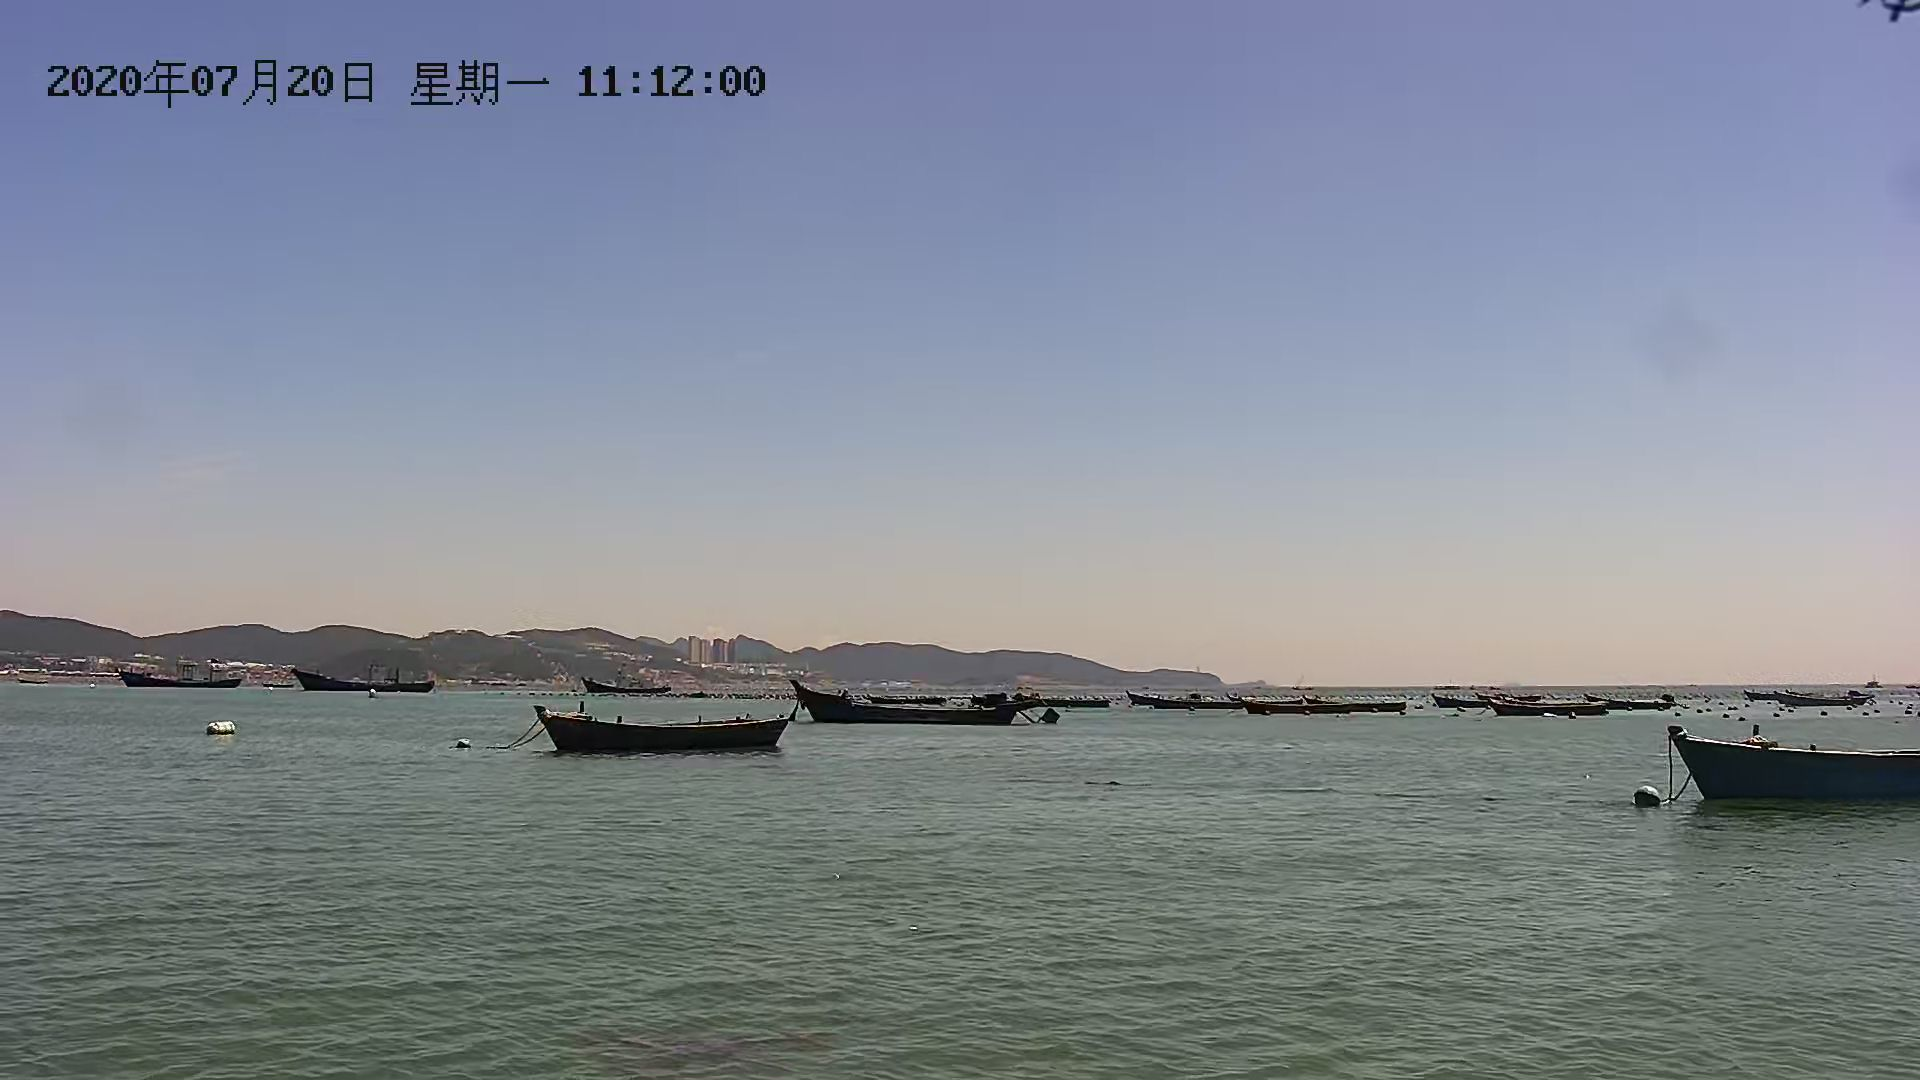ball: (1621, 781, 1665, 808), (451, 732, 477, 756)
boat: (1648, 721, 1920, 808), (525, 704, 796, 761), (785, 678, 1036, 736), (305, 669, 448, 698), (117, 669, 251, 688)
rubbish: (199, 717, 248, 742)
